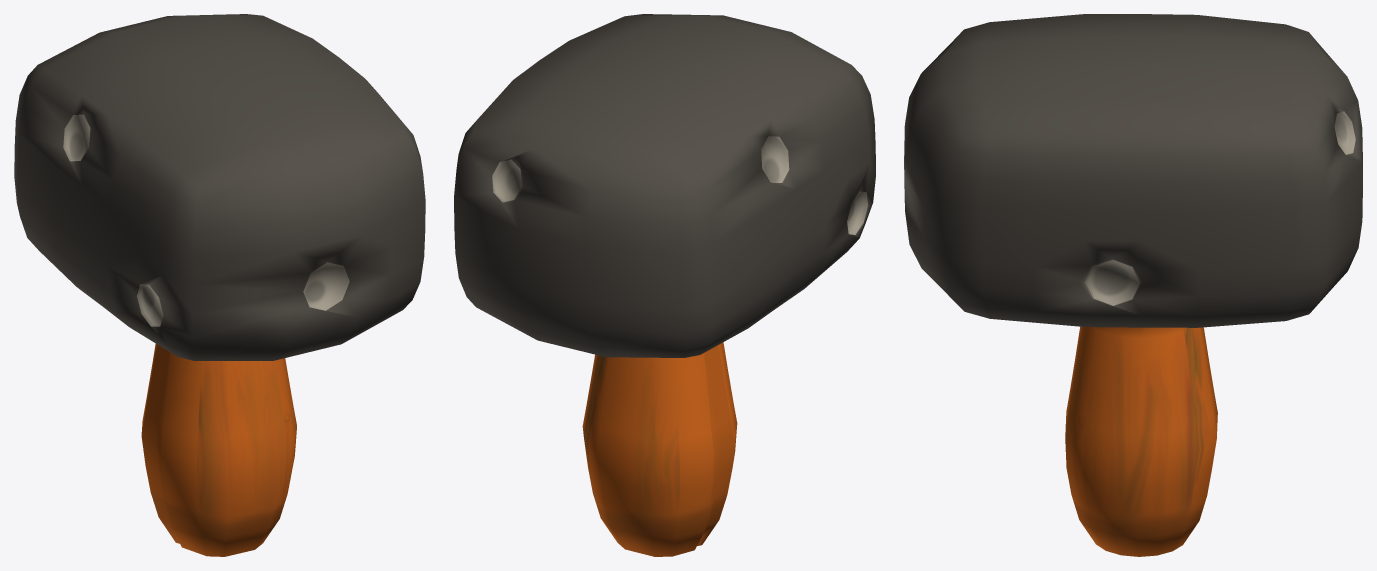
Rendered from Item 12.fbx.
3 renders of one model, left to right at view 1: azimuth 30°, elevation 25°; view 2: azimuth 150°, elevation 25°; view 3: azimuth 270°, elevation 25°, orthographic. The views are drawn at different scales.
Parts seen in each view (by area): view 1: Cube; view 2: Cube; view 3: Cube.
Boxes of the visible parts, x1,y1,x2,y2 form: Cube: [14, 14, 425, 556]; Cube: [454, 14, 875, 556]; Cube: [904, 14, 1362, 556].
Size of the model in its own units: 201 by 322 by 275.
